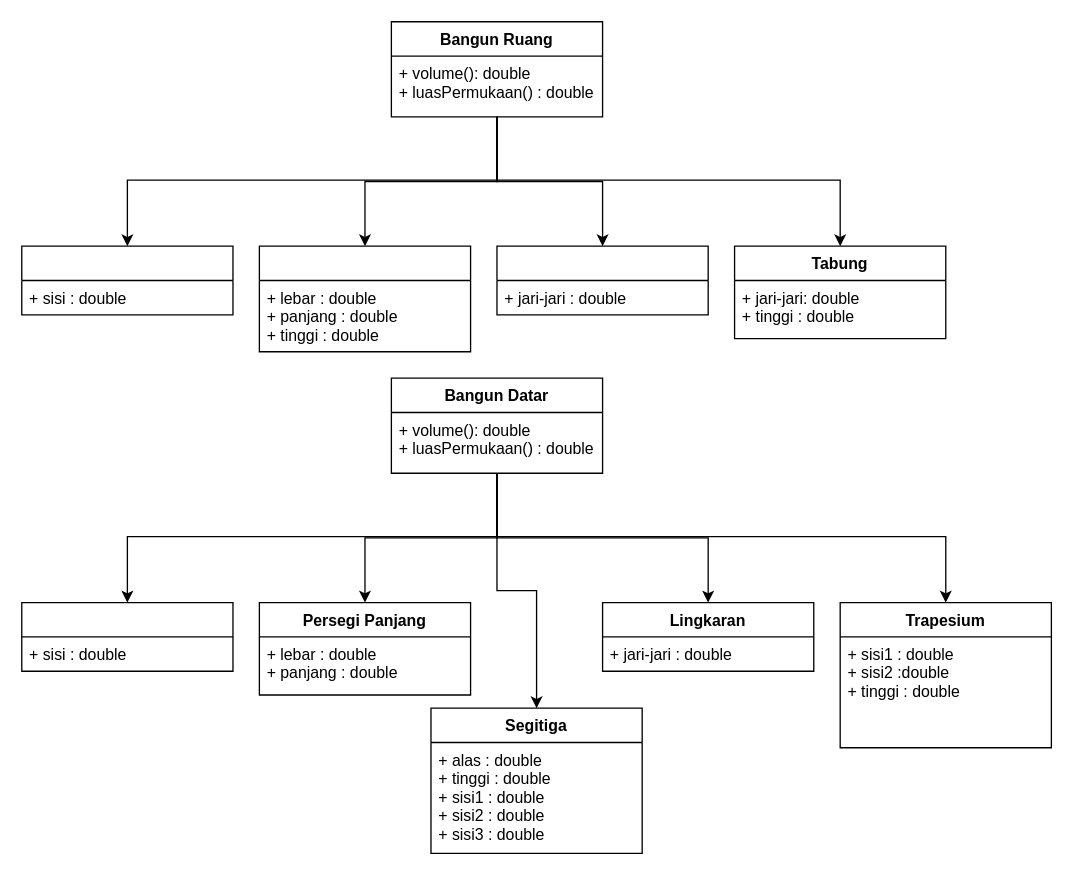
The diagram is 1073 pixels wide and 875 high, and some of its shapes have lost their labels. Each missing label, with the box of its shape:
Balok: (258, 245, 471, 352)
Bola: (496, 245, 708, 315)
Kubus: (20, 245, 233, 315)
Persegi: (20, 601, 233, 671)
